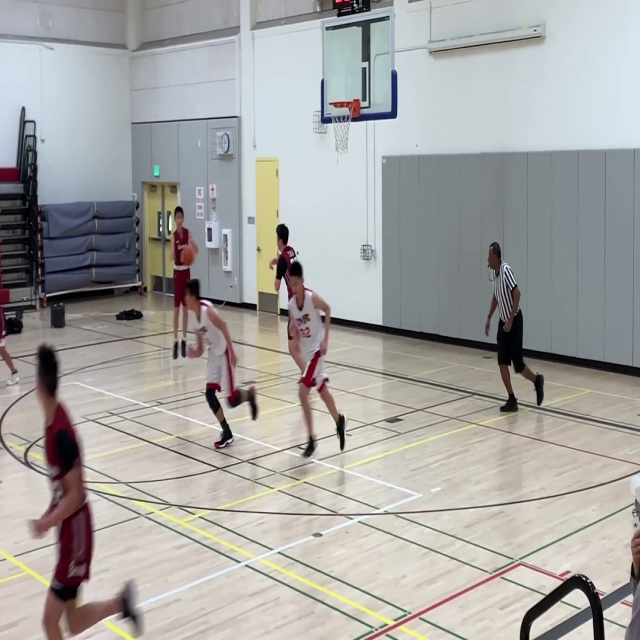Basketball: (181, 247, 194, 266)
